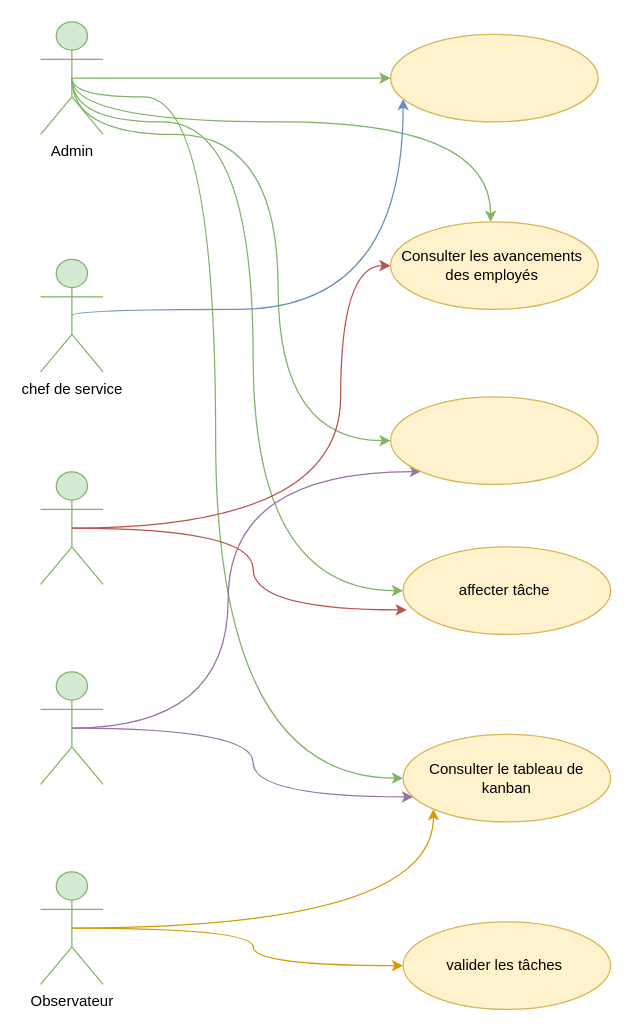
The diagram is 633 pixels wide and 1033 high, and some of its shapes have lost their labels. Here are the shapes that lost their labels. From the top down, the centre of each, then its label:
At (493,77): "Gérer les tache".
At (493,440): "deplacer une tache dans le tableau de kanban".
At (71,527): "chef de projet".
At (71,727): "employee".
